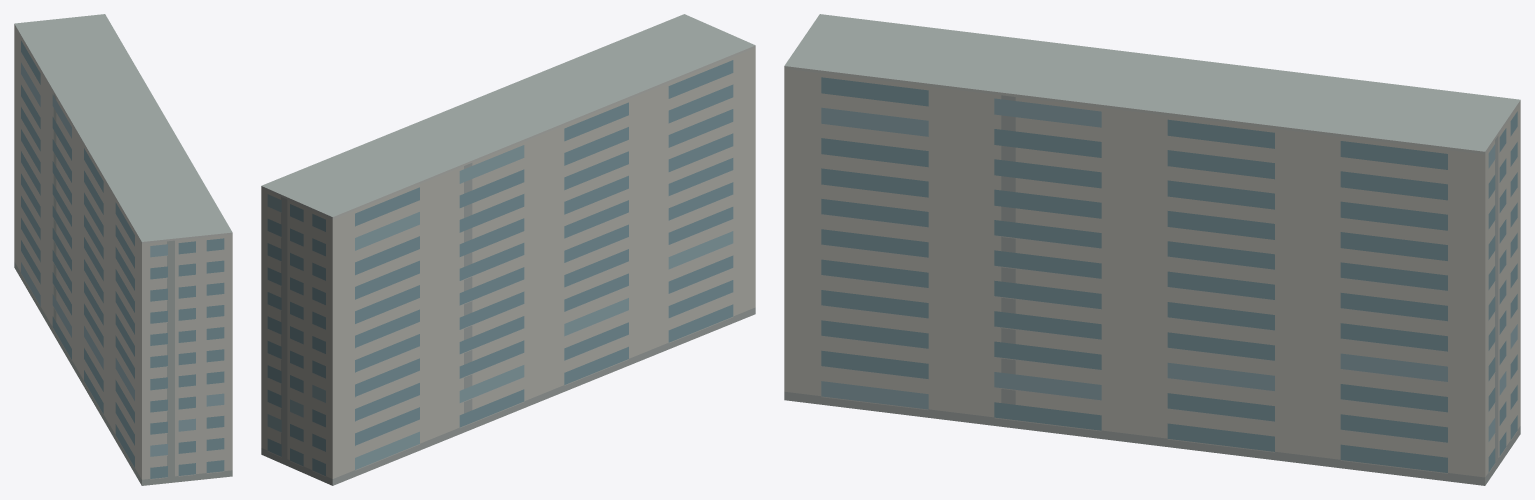
File: residential-26b0dfae-0546-494a-a681-d21c6ad8e9e6.glb
3 renders of one model, left to right at view 1: azimuth 30°, elevation 25°; view 2: azimuth 150°, elevation 25°; view 3: azimuth 270°, elevation 25°, orthographic. The views are drawn at different scales.
Parts seen in each view (by area): view 1: residential-26b0dfae-0546-494a-a681-d21c6ad8e9e6.tmp; view 2: residential-26b0dfae-0546-494a-a681-d21c6ad8e9e6.tmp; view 3: residential-26b0dfae-0546-494a-a681-d21c6ad8e9e6.tmp.
Part boxes in pixels (x1=…): residential-26b0dfae-0546-494a-a681-d21c6ad8e9e6.tmp: x1=14, y1=14, x2=232, y2=485; residential-26b0dfae-0546-494a-a681-d21c6ad8e9e6.tmp: x1=261, y1=14, x2=755, y2=485; residential-26b0dfae-0546-494a-a681-d21c6ad8e9e6.tmp: x1=784, y1=14, x2=1520, y2=485.
Bounding box in the file's own units: 26.54 × 30 × 59.93.
